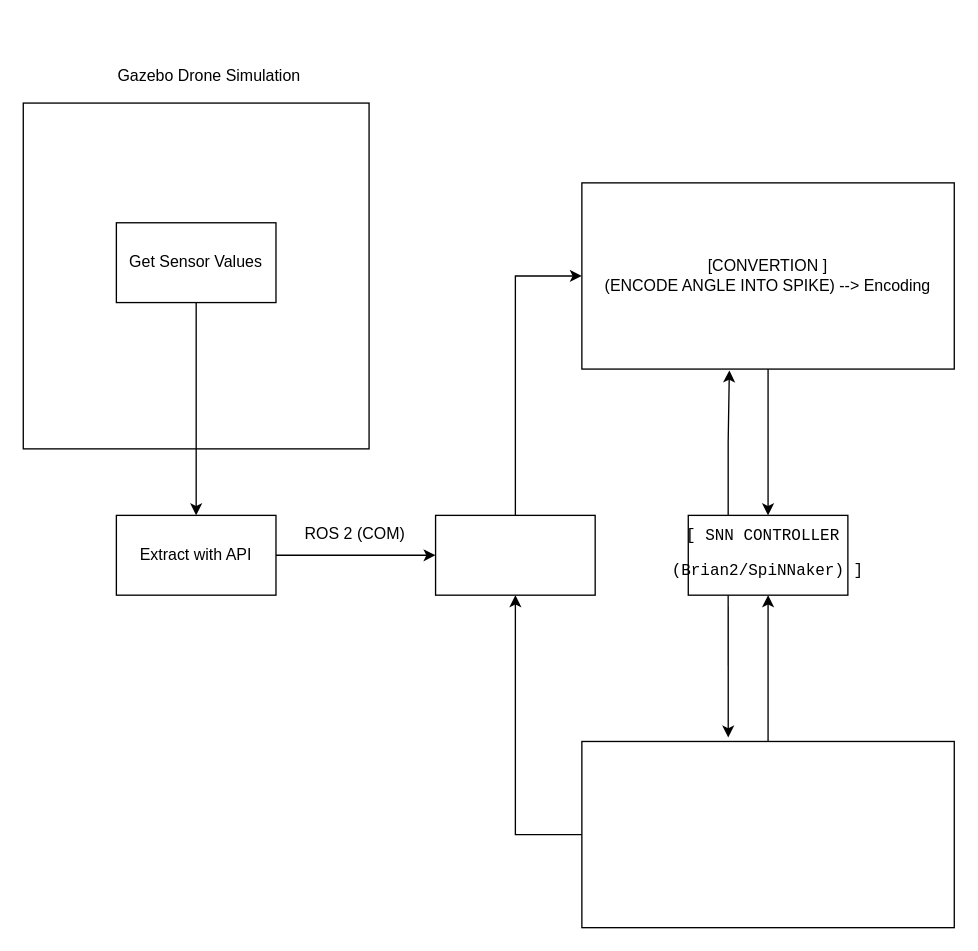
This 978x951 diagram has some shape labels left out. Here are the shapes that lost their labels. From the top down, the centre of each, then its label:
point (514, 554): (IMU Float) | (Motor RPM)
point (767, 834): [CONVERTION ] (DECODE SPIKE INTO RPM)<-- Decoding
